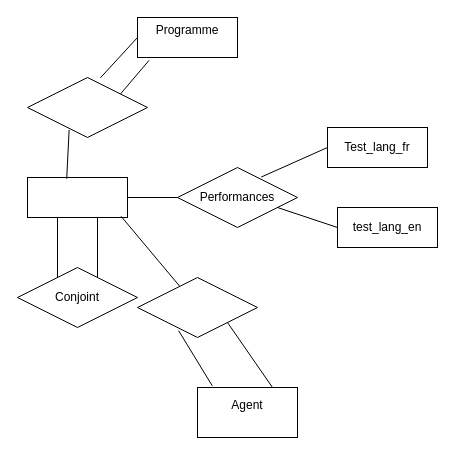
This 455x455 diagram has some shape labels left out. The box of each missing label's shape, as (x1, y1, x2, y2) in pixels:
Commentaires: (136, 276, 258, 338)
Etudiant: (26, 176, 128, 218)
Nom_du_prog: (26, 76, 148, 138)
